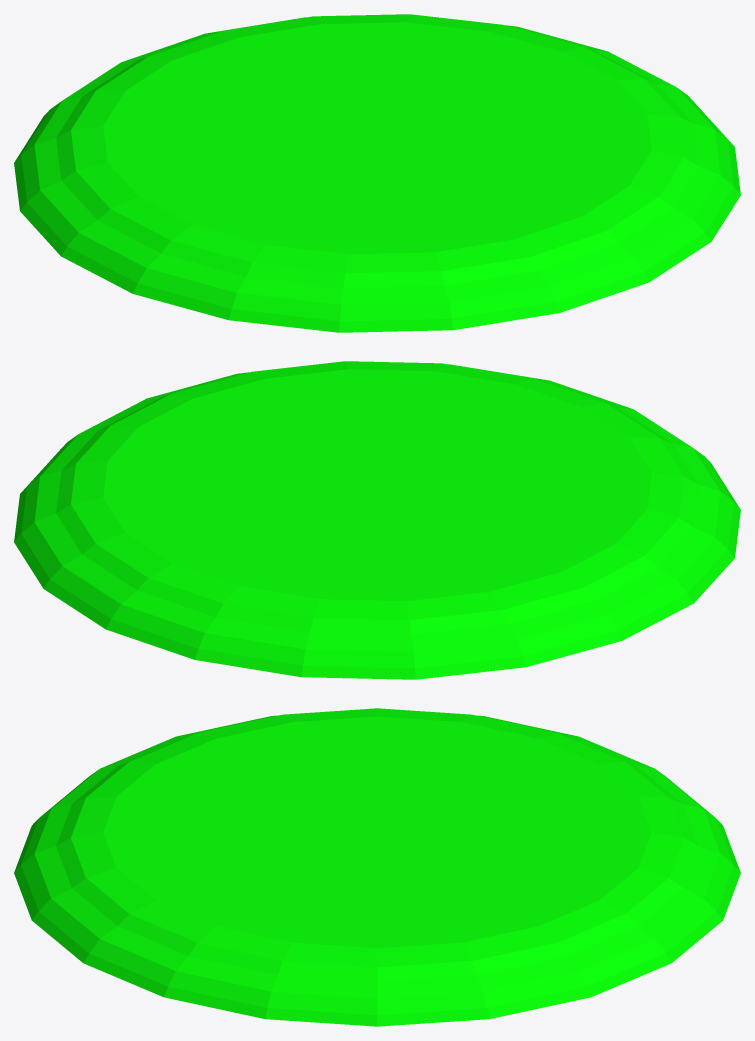
The model's file is COLINE.fbx.
The picture shows the model from 3 angles, top to bottom: view 1: azimuth 30°, elevation 25°; view 2: azimuth 150°, elevation 25°; view 3: azimuth 270°, elevation 25°; orthographic projection.
Visible parts, largest first — view 1: COLINE; view 2: COLINE; view 3: COLINE.
Part boxes in pixels (box(x1,y1,x2,y2)): COLINE: box(14, 14, 740, 332); COLINE: box(14, 361, 740, 679); COLINE: box(14, 708, 740, 1026).
Bounding box in the file's own units: 1308 × 80.76 × 1308.
